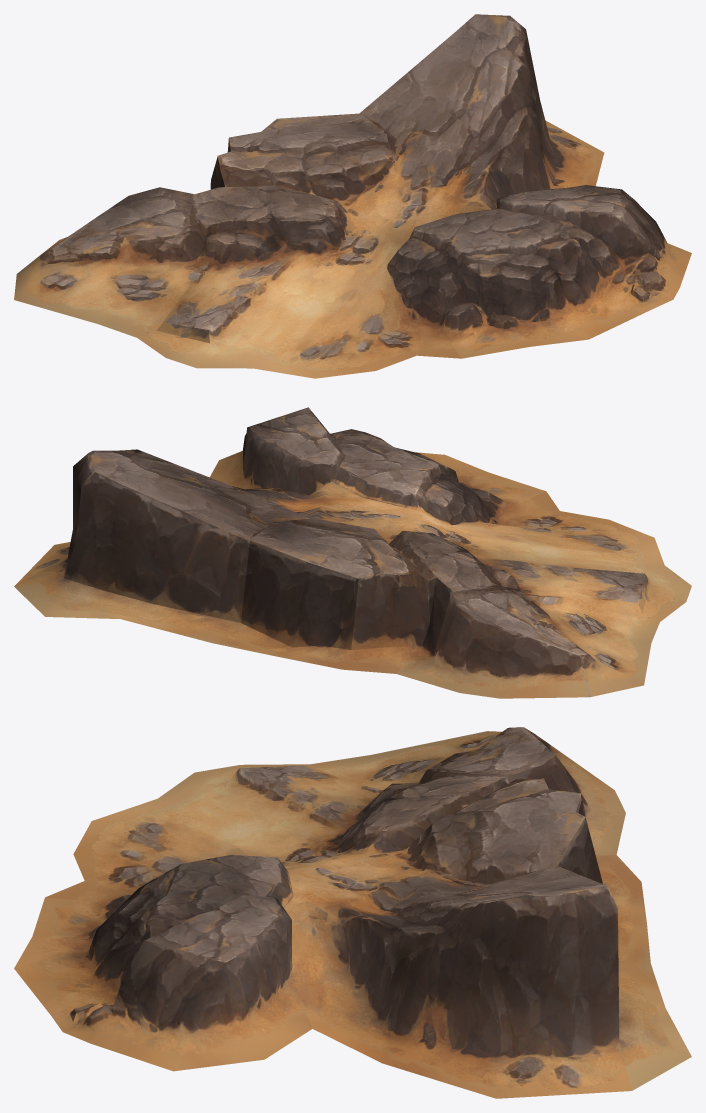
Rendered from xsm_shitou_7.FBX.
3 renders of one model, top to bottom at view 1: azimuth 30°, elevation 25°; view 2: azimuth 150°, elevation 25°; view 3: azimuth 270°, elevation 25°, orthographic. The views are drawn at different scales.
Parts seen in each view (by area): view 1: xsm_shitou_7; view 2: xsm_shitou_7; view 3: xsm_shitou_7.
Boxes of the visible parts, <box> form: xsm_shitou_7: <box>14,14,691,378</box>; xsm_shitou_7: <box>14,407,691,698</box>; xsm_shitou_7: <box>14,727,691,1098</box>.
Size of the model in its own units: 167 by 35.55 by 130.
